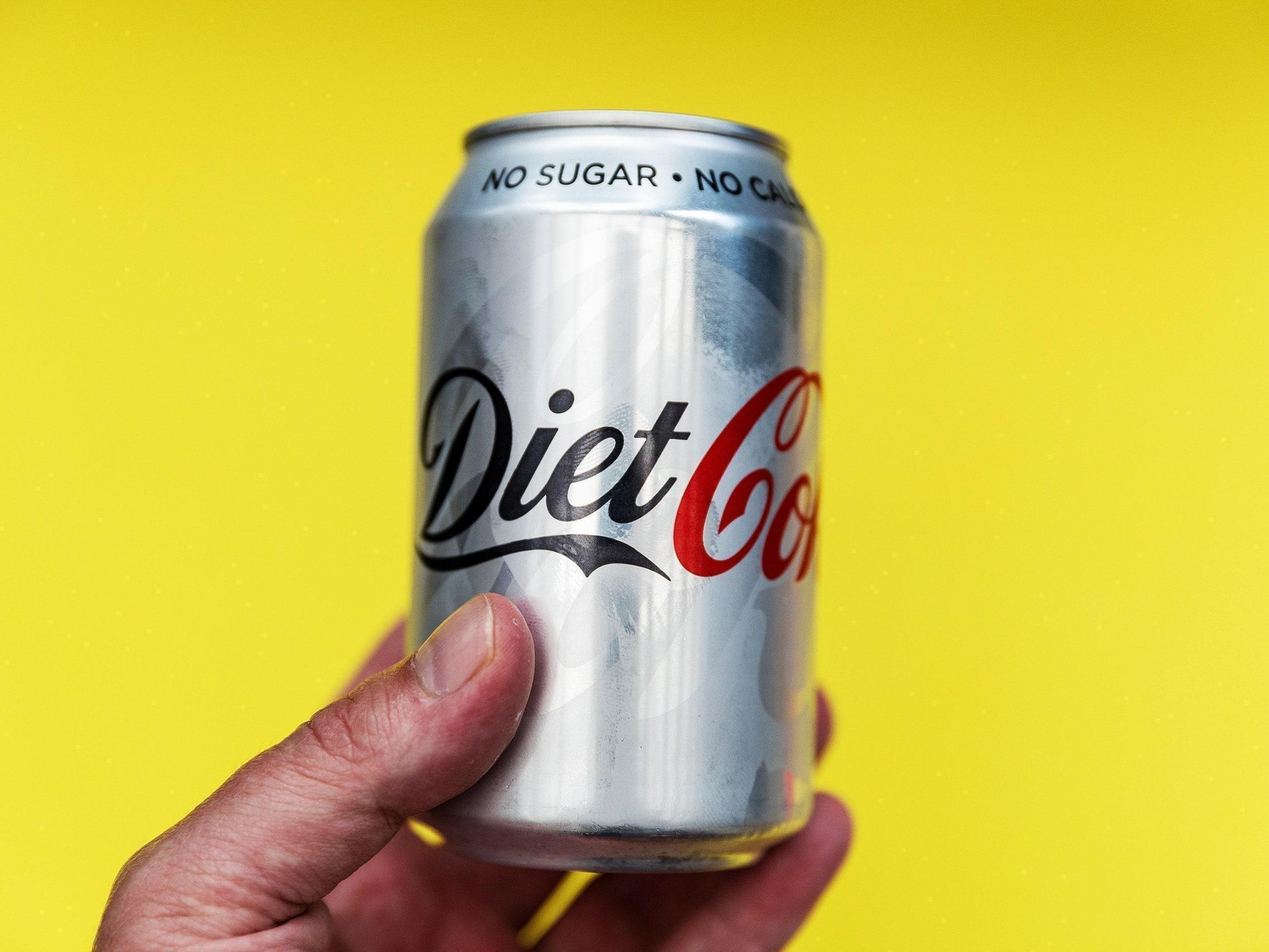tin can: (408, 108, 830, 884)
